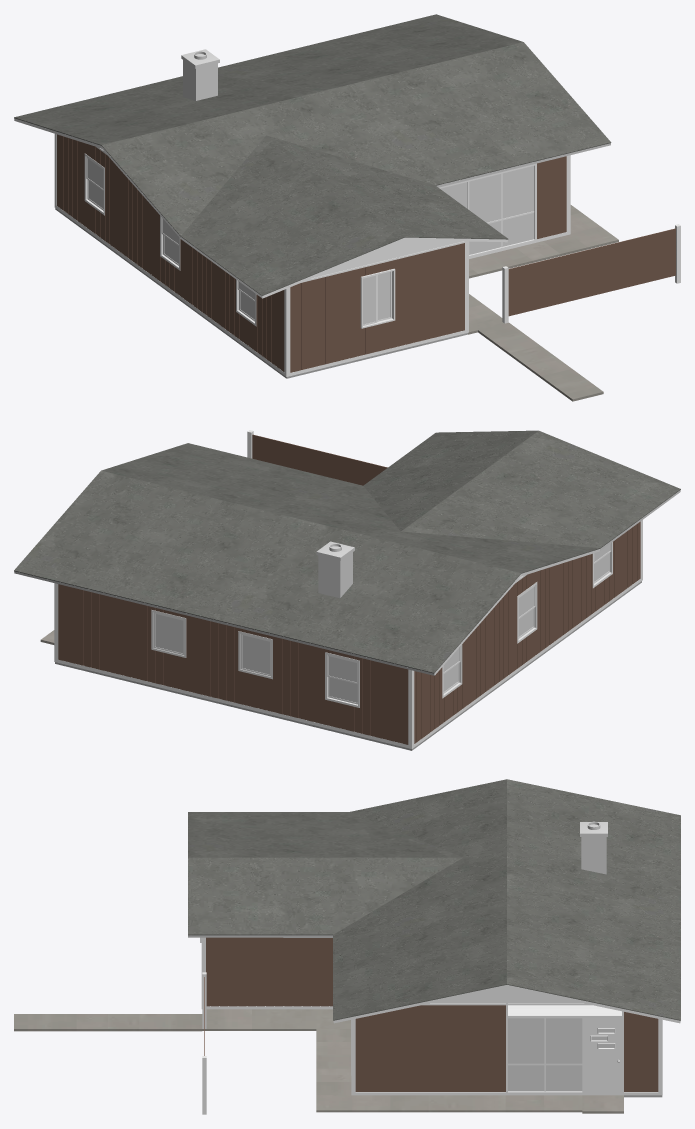
The model's file is casa2a.glb.
3 renders of one model, top to bottom at view 1: azimuth 30°, elevation 25°; view 2: azimuth 150°, elevation 25°; view 3: azimuth 270°, elevation 25°, orthographic.
Visible parts, largest first — view 1: gw-45-roof.001_Asphalt020_0, gw-45-walls_plywood_brown_0, gw-45-walls_Wood058_0, gw-45-concreteTiles.001_ConcreteSubstance004_0, gw-45-window.003_Glass_0, gw-45-walls_Accent_White_0, gw-45-chimney_Metal_White_0, gw-45-foundation.001_Concrete034_0; view 2: gw-45-roof.001_Asphalt020_0, gw-45-walls_plywood_brown_0, gw-45-walls_Wood058_0, gw-45-window.003_Glass_0, gw-45-foundation.001_Concrete034_0, gw-45-chimney_Metal_White_0, gw-45-doorFront_D.001_Metal_Aluminum_0; view 3: gw-45-roof.001_Asphalt020_0, gw-45-walls_plywood_brown_0, gw-45-concreteTiles.001_ConcreteSubstance004_0, gw-45-walls_Wood058_0, gw-45-window.003_Glass_0, gw-45-walls_Accent_White_0, gw-45-chimney_Metal_White_0.
Boxes of the visible parts, bbox=[...] form: gw-45-roof.001_Asphalt020_0: bbox=[14, 14, 611, 295]; gw-45-walls_plywood_brown_0: bbox=[57, 134, 675, 372]; gw-45-walls_Wood058_0: bbox=[14, 118, 680, 376]; gw-45-concreteTiles.001_ConcreteSubstance004_0: bbox=[468, 205, 618, 401]; gw-45-window.003_Glass_0: bbox=[87, 158, 534, 324]; gw-45-walls_Accent_White_0: bbox=[101, 148, 462, 277]; gw-45-chimney_Metal_White_0: bbox=[183, 60, 217, 100]; gw-45-foundation.001_Concrete034_0: bbox=[55, 208, 467, 378]; gw-45-roof.001_Asphalt020_0: bbox=[14, 430, 680, 673]; gw-45-walls_plywood_brown_0: bbox=[58, 434, 640, 744]; gw-45-walls_Wood058_0: bbox=[14, 430, 680, 748]; gw-45-window.003_Glass_0: bbox=[155, 544, 610, 702]; gw-45-foundation.001_Concrete034_0: bbox=[55, 581, 641, 750]; gw-45-chimney_Metal_White_0: bbox=[318, 552, 352, 598]; gw-45-doorFront_D.001_Metal_Aluminum_0: bbox=[316, 541, 354, 560]; gw-45-roof.001_Asphalt020_0: bbox=[188, 779, 680, 1020]; gw-45-walls_plywood_brown_0: bbox=[204, 937, 658, 1091]; gw-45-concreteTiles.001_ConcreteSubstance004_0: bbox=[14, 1009, 623, 1113]; gw-45-walls_Wood058_0: bbox=[188, 935, 680, 1114]; gw-45-window.003_Glass_0: bbox=[508, 1018, 614, 1091]; gw-45-walls_Accent_White_0: bbox=[431, 987, 621, 1095]; gw-45-chimney_Metal_White_0: bbox=[581, 837, 606, 874].
Size of the model in its own units: 11.89 by 4.1 by 16.21.
Materials: 9 (3 with a texture image).
